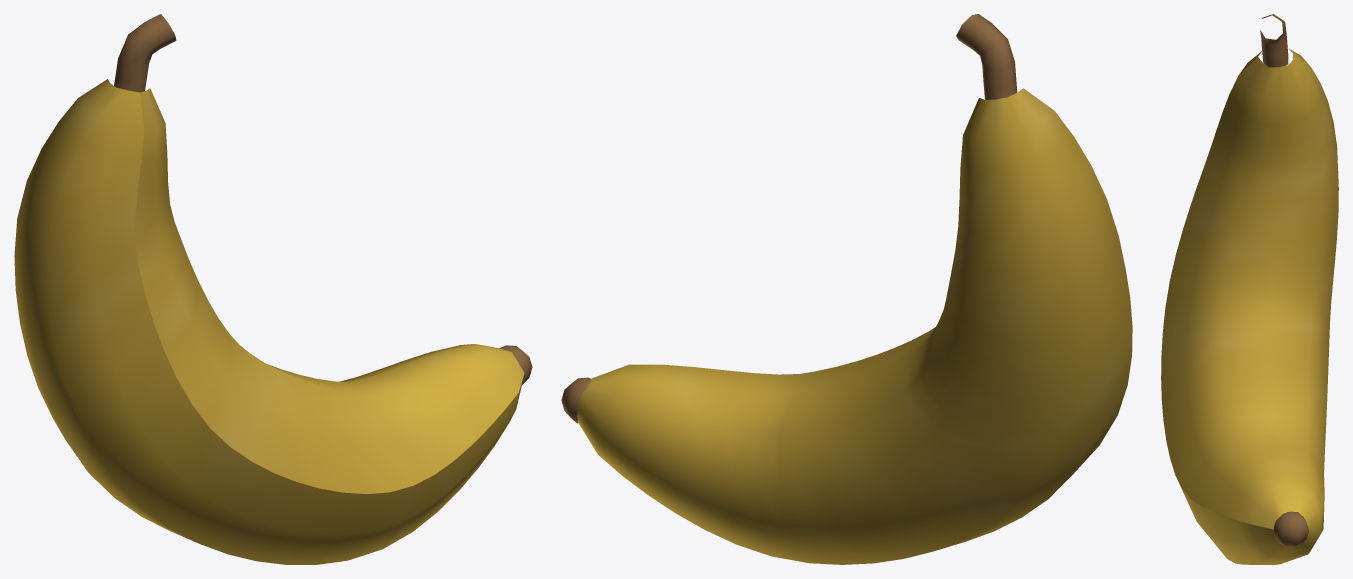
File: banana.glb
3 renders of one model, left to right at view 1: azimuth 30°, elevation 25°; view 2: azimuth 150°, elevation 25°; view 3: azimuth 270°, elevation 25°, orthographic. The views are drawn at different scales.
Parts seen in each view (by area): view 1: banana; view 2: banana; view 3: banana.
Boxes of the visible parts, x1,y1,x2,y2 form: banana: (14,14,532,564); banana: (561,14,1132,564); banana: (1161,14,1338,564).
Size of the model in its own units: 0.8299 by 0.8745 by 0.3052.
